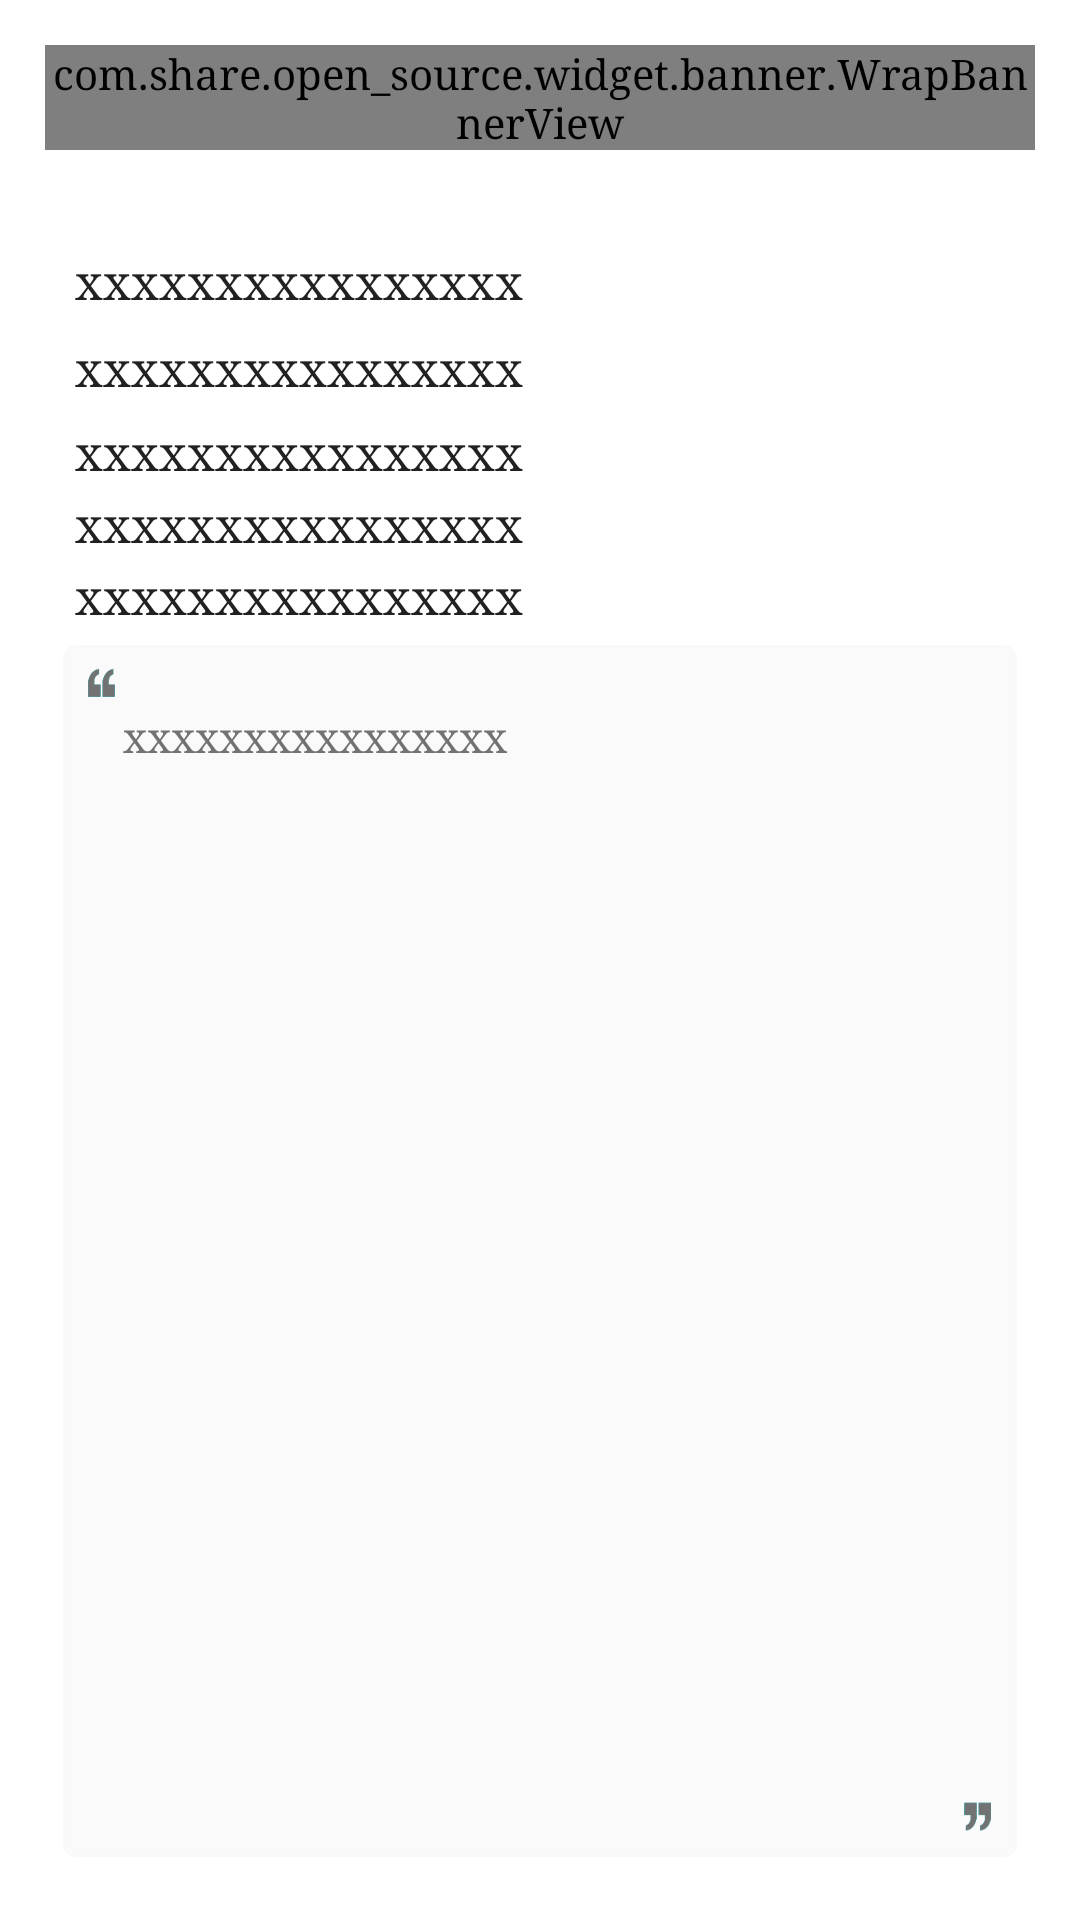

Icon bounding boxes for this 1080px×1920px phone screenshot, format bbox=(x1, y1, x2, y2):
down quot: bbox=(964, 1802, 991, 1831)
up quot: bbox=(88, 668, 115, 697)
